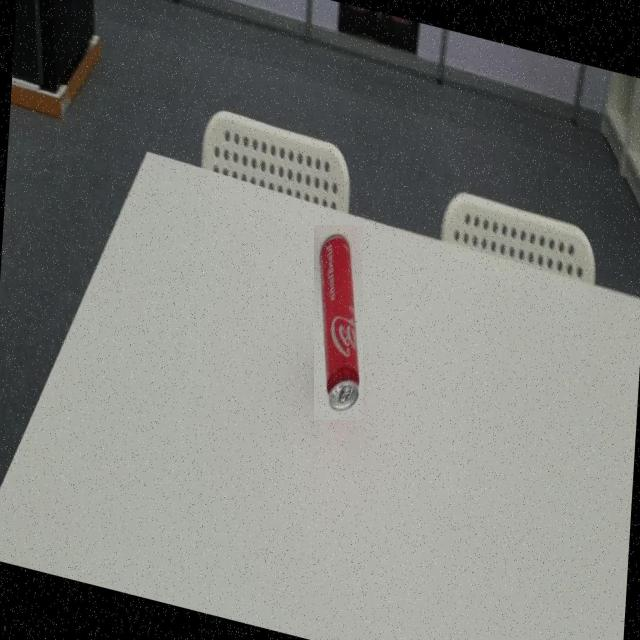coca-cola: (314, 225, 363, 420)
